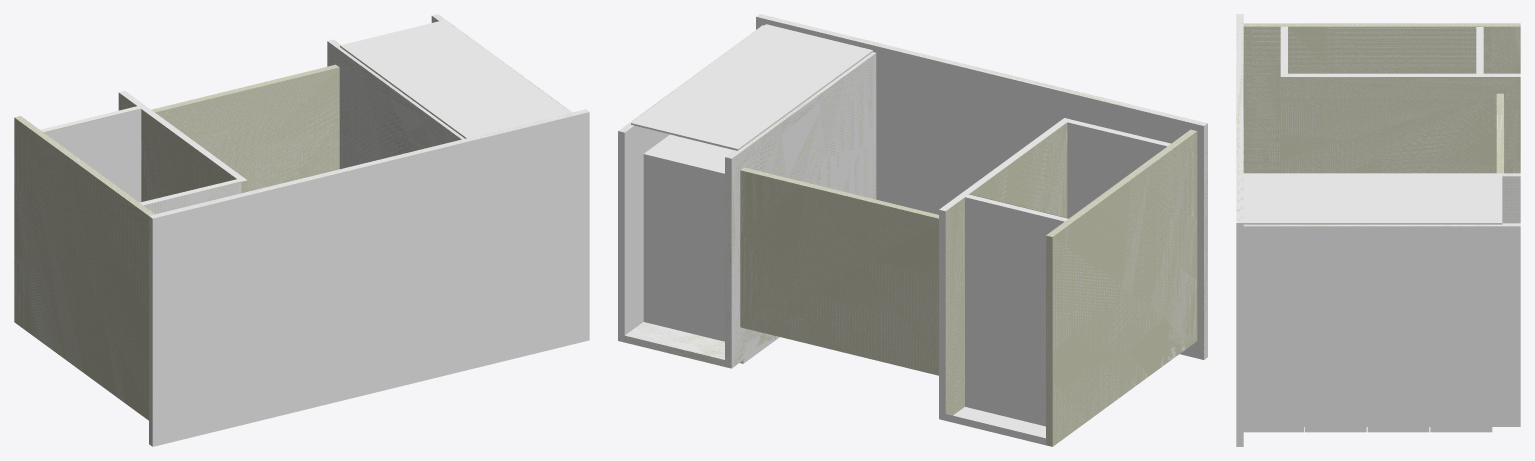
The picture shows the model from 3 angles, left to right: view 1: azimuth 30°, elevation 25°; view 2: azimuth 150°, elevation 25°; view 3: azimuth 270°, elevation 25°; orthographic projection. The views are drawn at different scales.
Visible parts, largest first — view 1: computer desk; view 2: computer desk; view 3: computer desk.
Boxes of the visible parts, <box> form: computer desk: <box>14,14,589,446</box>; computer desk: <box>618,14,1207,446</box>; computer desk: <box>1236,14,1520,446</box>.
Bounding box in the file's own units: 52.76 × 26.73 × 30.32.
